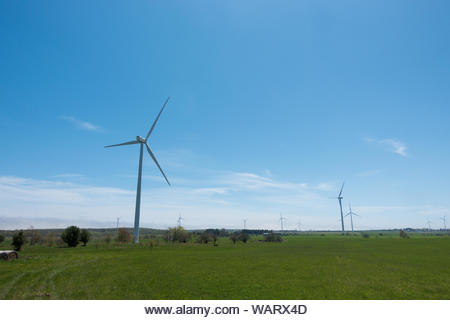working: (99, 95, 185, 191), (329, 178, 348, 231)
